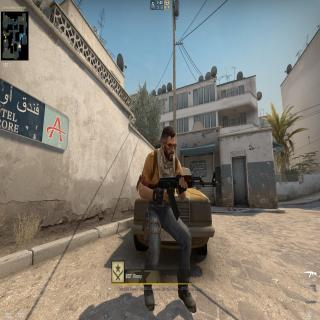T-Head: (161, 124, 177, 166)
